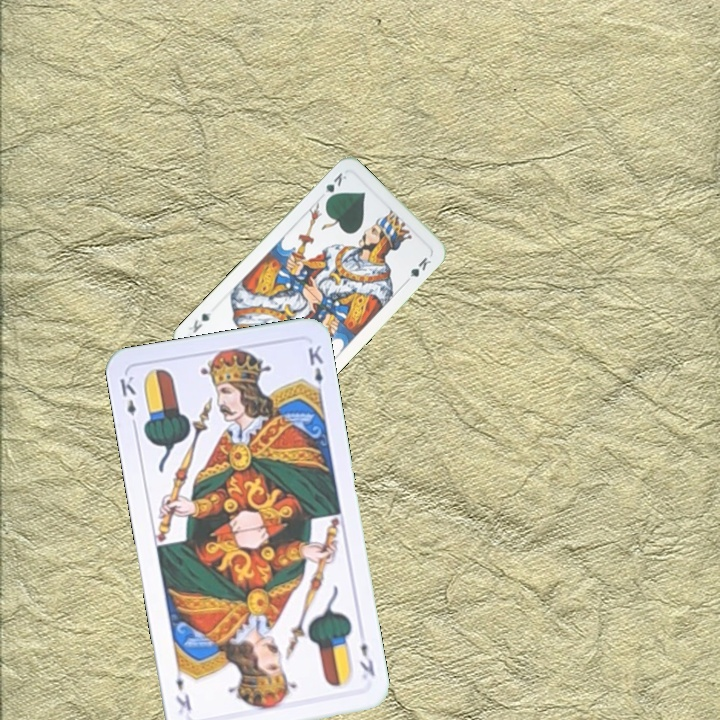EK: (115, 372, 140, 431), (355, 638, 378, 679)
GK: (321, 169, 350, 204)
